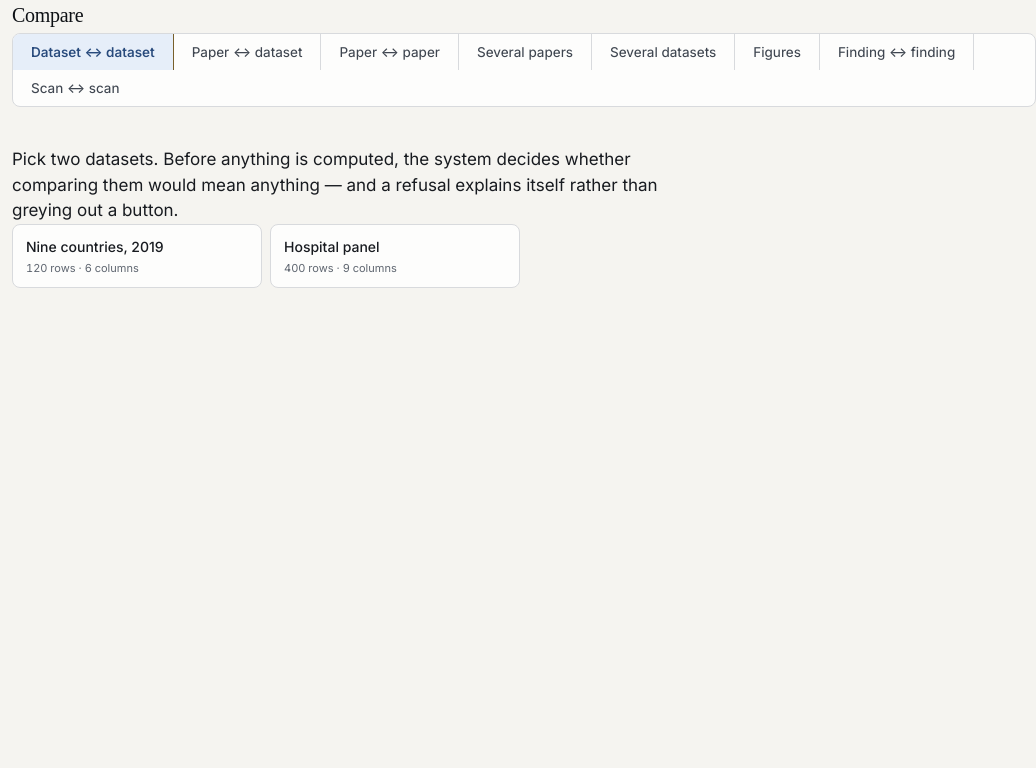
recording a design the comparison stopped for › offers it only for the side that is missing it
Click the text "Nine countries, 2019".
click(95, 246)  # box [26,238,164,254]
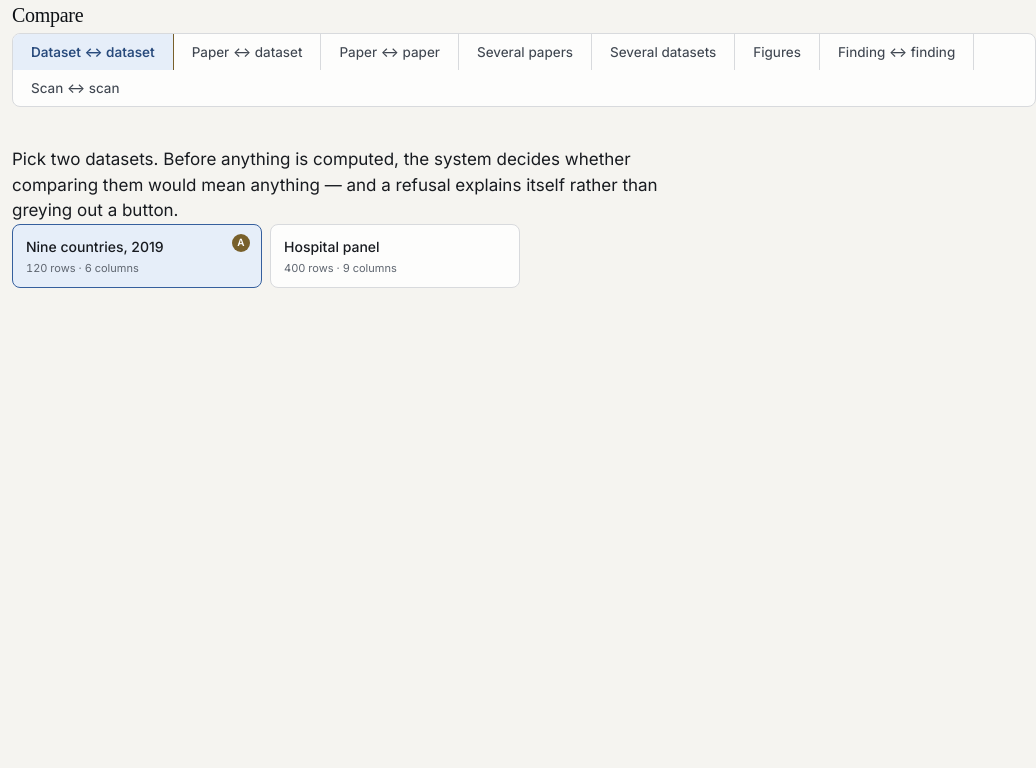
Click the text "Hospital panel".
click(332, 246)  # box [284,238,380,254]
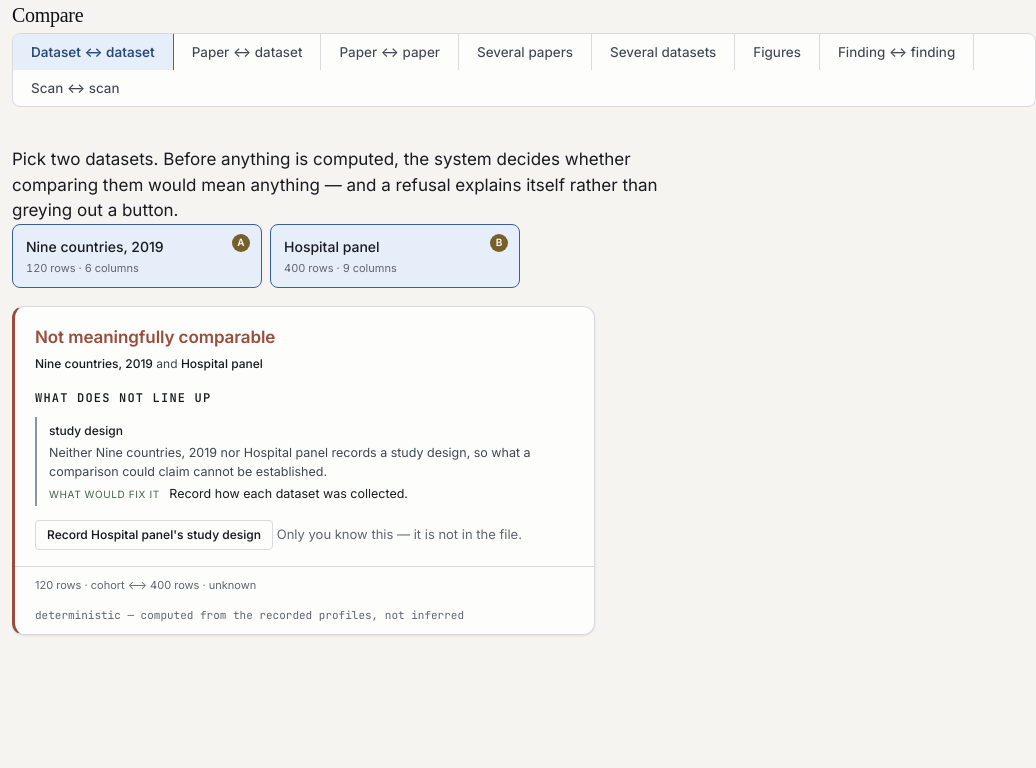
Result: the text "cannot be established" is shown at [49,444,531,478]
Result: the button "Record Hospital panel's study design" is shown at [35,520,273,550]
